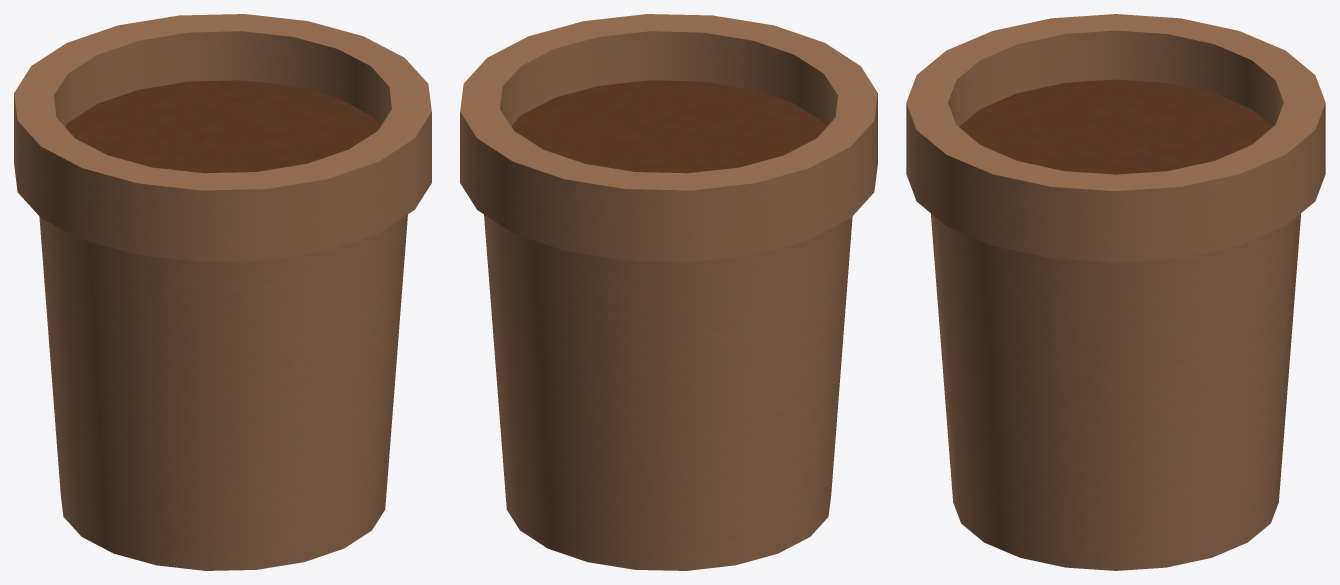
File: brownpot 1.fbx
3 renders of one model, left to right at view 1: azimuth 30°, elevation 25°; view 2: azimuth 150°, elevation 25°; view 3: azimuth 270°, elevation 25°, orthographic.
Visible parts, largest first — view 1: pCylinder1, pPipe1, pasted__pCylinder1; view 2: pCylinder1, pPipe1, pasted__pCylinder1; view 3: pCylinder1, pPipe1, pasted__pCylinder1.
Part boxes in pixels (x1=…): pCylinder1: x1=39, y1=214, x2=407, y2=570; pPipe1: x1=14, y1=14, x2=431, y2=261; pasted__pCylinder1: x1=65, y1=80, x2=380, y2=173; pCylinder1: x1=484, y1=214, x2=852, y2=570; pPipe1: x1=460, y1=14, x2=877, y2=261; pasted__pCylinder1: x1=511, y1=80, x2=826, y2=173; pCylinder1: x1=931, y1=213, x2=1300, y2=570; pPipe1: x1=906, y1=14, x2=1325, y2=262; pasted__pCylinder1: x1=959, y1=79, x2=1272, y2=174.
Size of the model in its own units: 2.55 by 2.68 by 2.55.
Materials: 2 (2 with a texture image).
